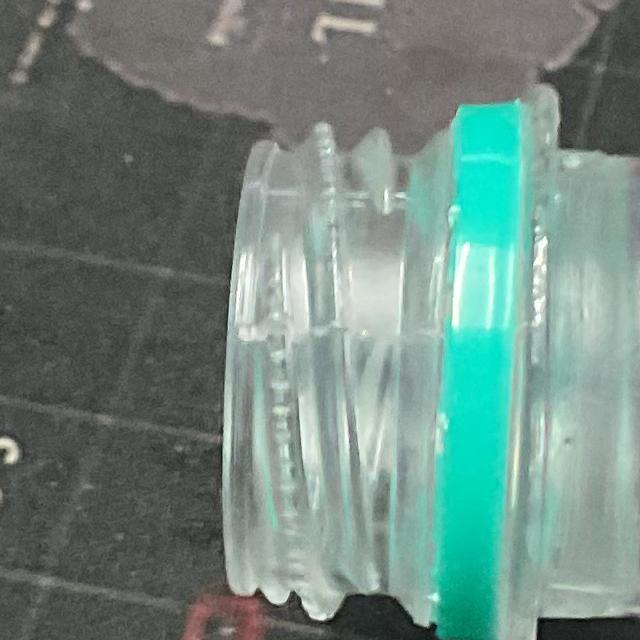open-cap: (215, 93, 522, 640)
